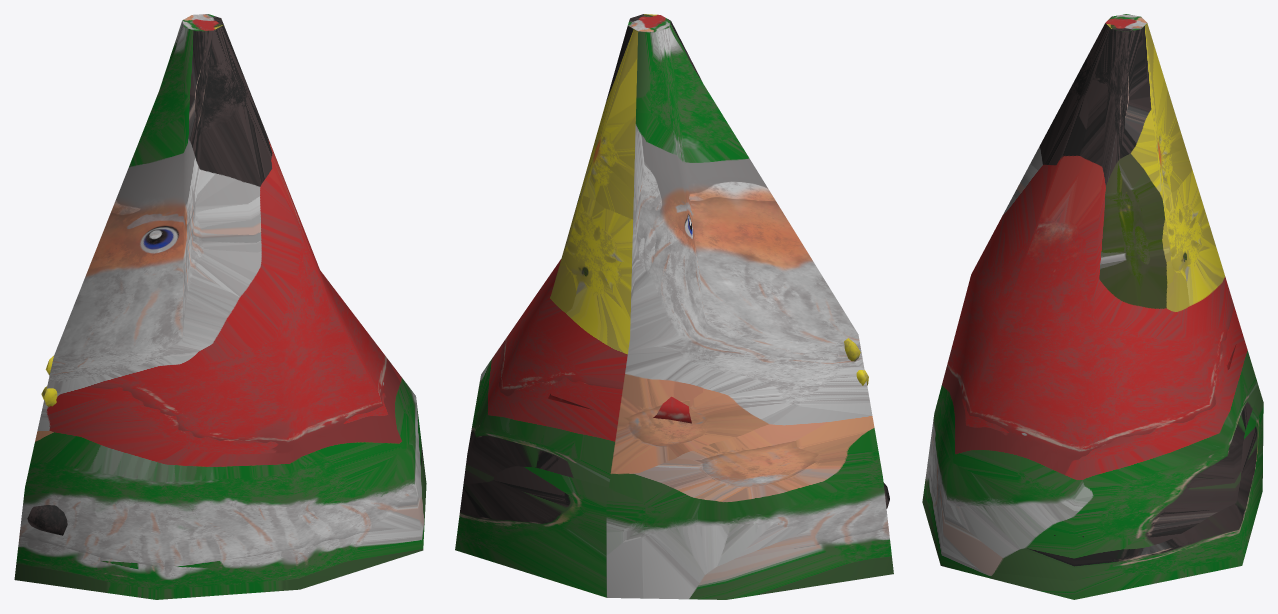
Rendered from garden_gnome_F.FBX.
The picture shows the model from 3 angles, left to right: view 1: azimuth 30°, elevation 25°; view 2: azimuth 150°, elevation 25°; view 3: azimuth 270°, elevation 25°; orthographic projection. The views are drawn at different scales.
Parts seen in each view (by area): view 1: garden_gnome_F_COL, garden_gnome_F_LOD0; view 2: garden_gnome_F_COL, garden_gnome_F_LOD0; view 3: garden_gnome_F_COL.
Part boxes in pixels (left/top/right/bottom): garden_gnome_F_COL: left=14, top=14, right=426, bottom=599; garden_gnome_F_LOD0: left=27, top=355, right=419, bottom=535; garden_gnome_F_COL: left=455, top=14, right=893, bottom=599; garden_gnome_F_LOD0: left=548, top=338, right=889, bottom=508; garden_gnome_F_COL: left=922, top=14, right=1263, bottom=599.
Size of what is drawn, in the model's own units: 28.2 by 32.39 by 20.74.
